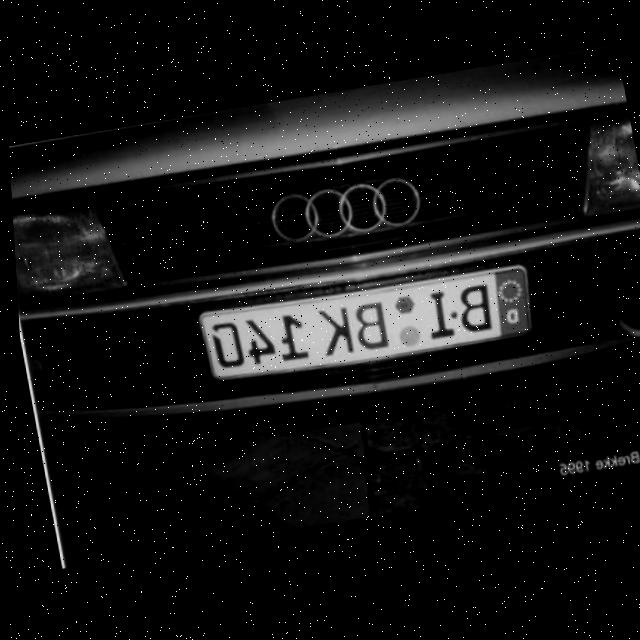license-plates: (198, 266, 532, 380)
